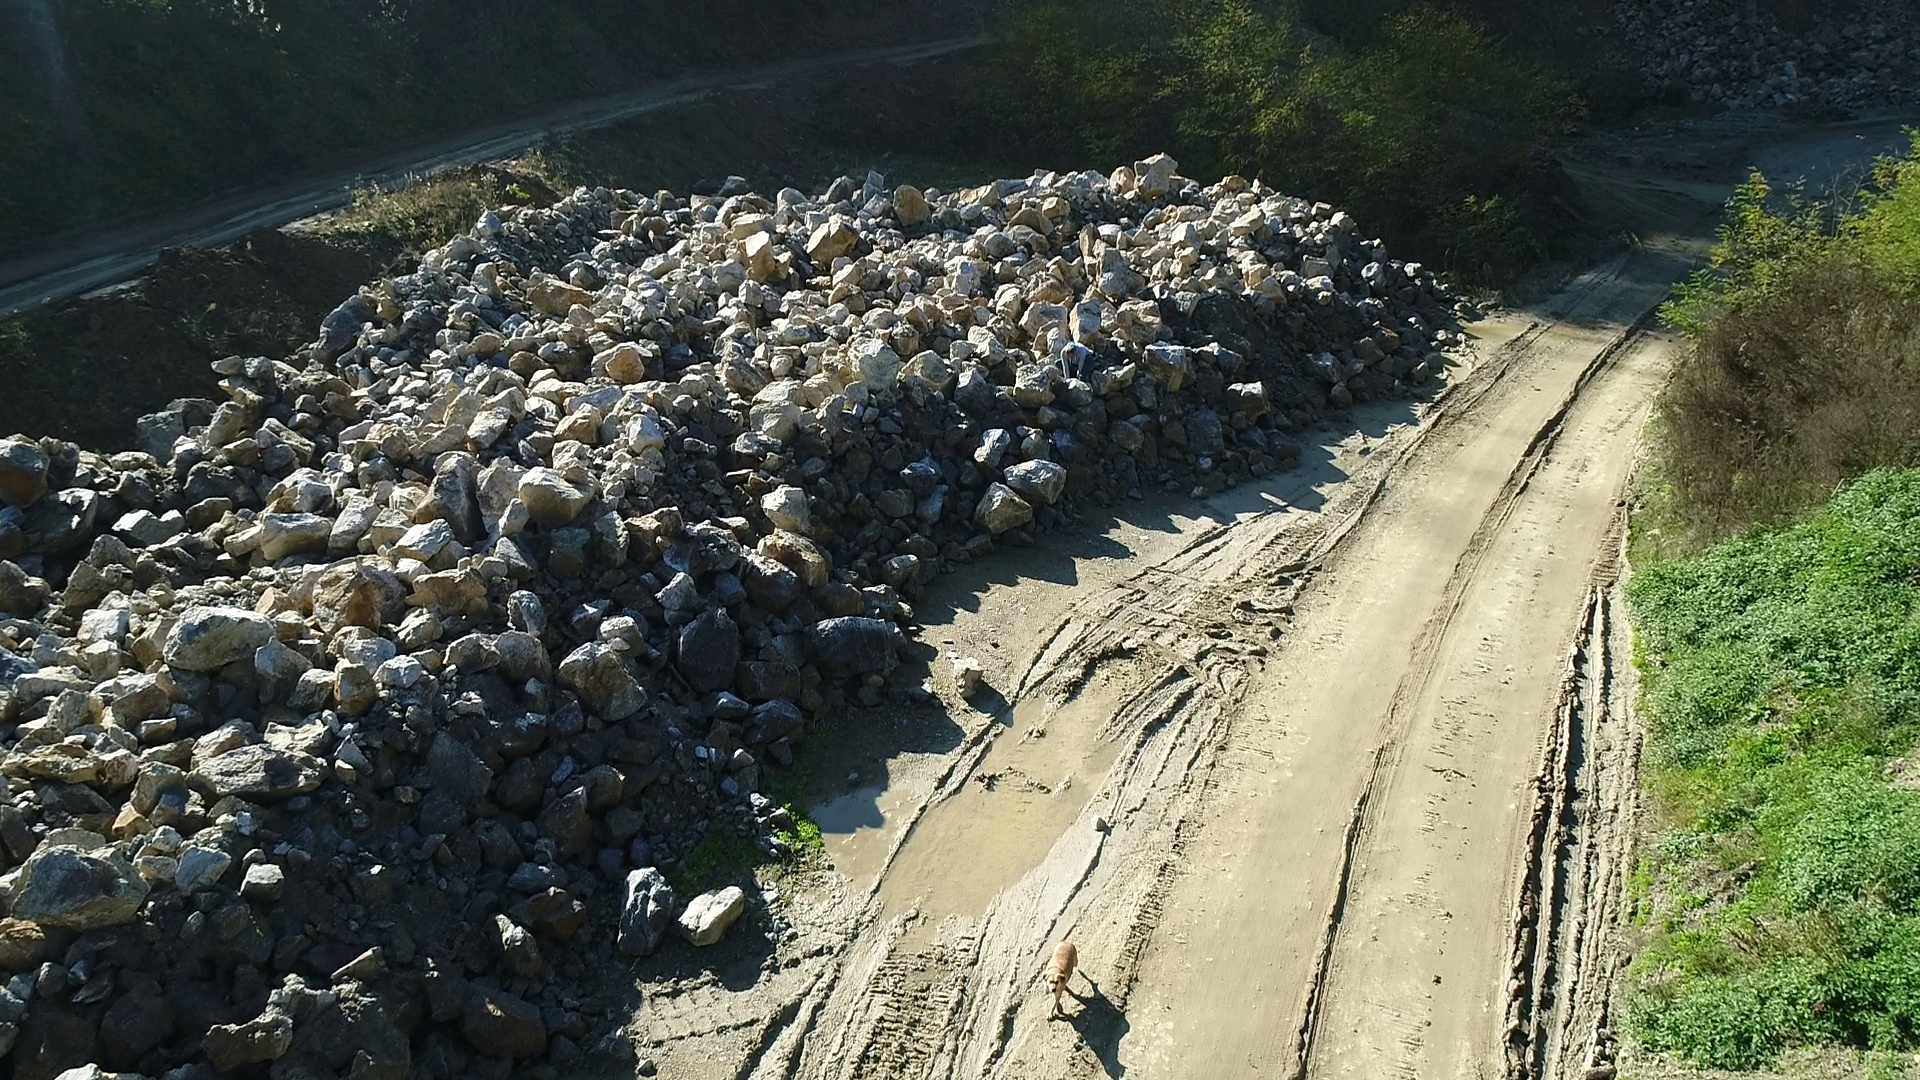person: (1058, 340, 1096, 380)
